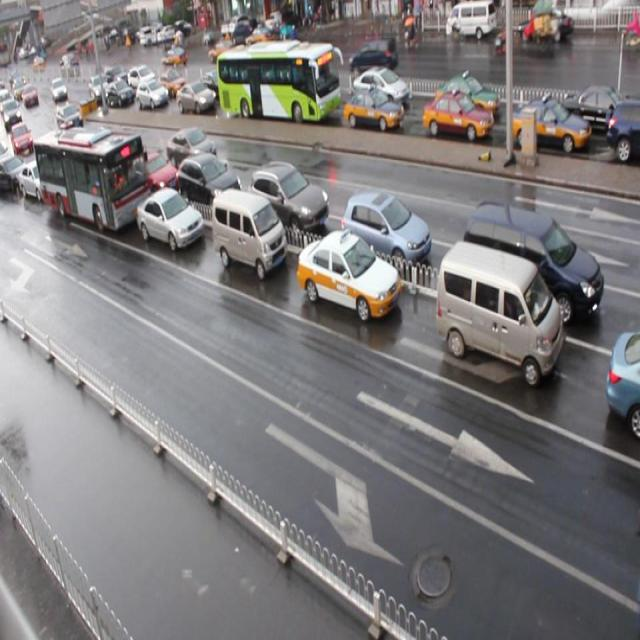car: (298, 228, 402, 322), (341, 192, 432, 276), (249, 161, 330, 234), (512, 98, 592, 156), (137, 186, 205, 250), (556, 85, 632, 138), (178, 152, 244, 212), (606, 327, 640, 433), (424, 92, 494, 140), (432, 73, 499, 120), (344, 84, 404, 133), (354, 67, 409, 108), (136, 146, 180, 195), (606, 97, 640, 159), (166, 127, 216, 168), (21, 158, 58, 202), (84, 132, 122, 171), (286, 67, 327, 102), (176, 80, 216, 114), (1, 152, 30, 194), (201, 71, 232, 104), (136, 81, 170, 109), (128, 64, 157, 92), (159, 71, 187, 97), (106, 79, 133, 105), (56, 104, 82, 130)
truck: (437, 240, 562, 388), (464, 198, 604, 328), (212, 188, 288, 278)
van: (35, 126, 154, 234), (216, 44, 340, 123)
